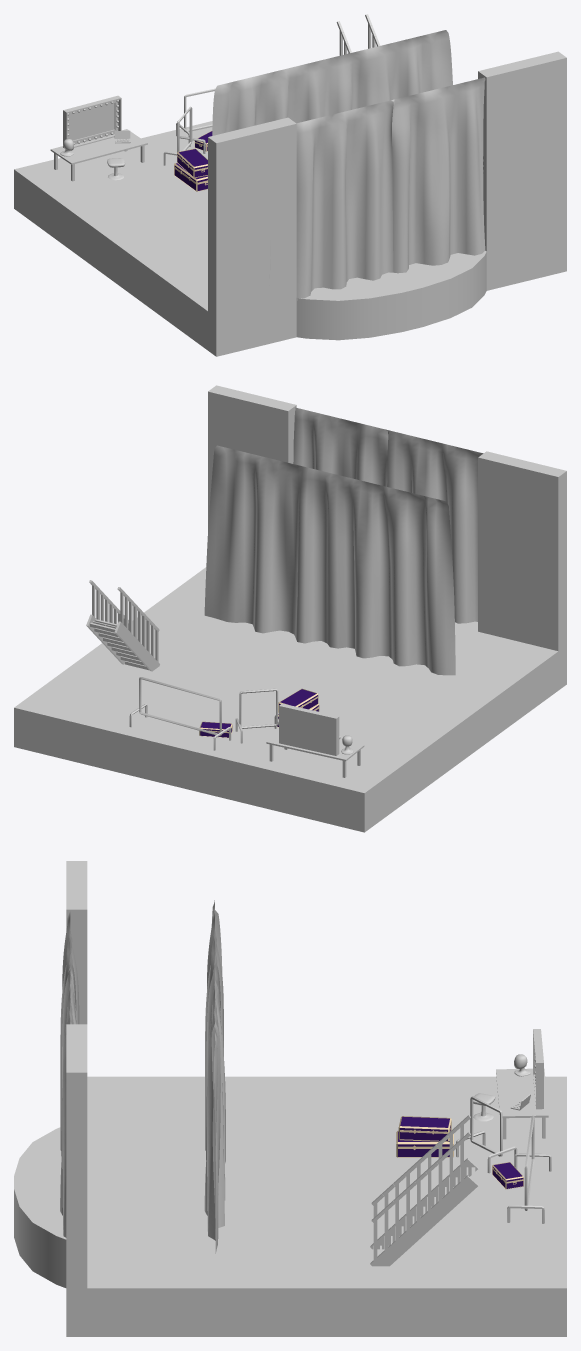
Rendered from ScenaryAlfa2.fbx.
The picture shows the model from 3 angles, top to bottom: view 1: azimuth 30°, elevation 25°; view 2: azimuth 150°, elevation 25°; view 3: azimuth 270°, elevation 25°; orthographic projection. The views are drawn at different scales.
Parts seen in each view (by area): view 1: Teatro base, Telon izquierda, Telon derecha, Telon Atras, Luces, mesa, Caja backstage 1.002, escalera, Caja backstage 1; view 2: Teatro base, Telon Atras, Telon izquierda, Telon derecha, escalera, Luces, mesa, Burro; view 3: Teatro base, escalera, Telon Atras, mesa, Telon izquierda, Telon derecha, Caja backstage 1.002, Caja backstage 1, Luces, Caja backstage 1.001, Burro.
Boxes of the visible parts, x1,y1,x2,y2 form: Teatro base: (14, 51, 566, 356); Telon izquierda: (269, 100, 393, 300); Telon derecha: (392, 77, 485, 273); Telon Atras: (212, 30, 452, 135); Luces: (63, 95, 121, 147); mesa: (50, 129, 147, 181); Caja backstage 1.002: (177, 148, 207, 178); escalera: (336, 14, 380, 55); Caja backstage 1: (174, 163, 207, 191); Teatro base: (14, 385, 566, 832); Telon Atras: (204, 445, 455, 675); Telon izquierda: (387, 430, 483, 623); Telon derecha: (293, 407, 388, 486); escalera: (86, 580, 159, 671); Luces: (279, 703, 339, 755); mesa: (266, 732, 364, 777); Burro: (139, 677, 221, 736); Teatro base: (14, 861, 566, 1336); escalera: (370, 1115, 478, 1266); Telon Atras: (204, 900, 225, 1253); mesa: (496, 1068, 548, 1139); Telon izquierda: (60, 911, 79, 1150); Telon derecha: (60, 970, 76, 1237); Caja backstage 1.002: (398, 1116, 451, 1141); Caja backstage 1: (396, 1130, 453, 1157); Luces: (533, 1029, 543, 1109); Caja backstage 1.001: (492, 1162, 523, 1189); Burro: (524, 1115, 534, 1210).
Bounding box in the file's own units: 1000 × 582 × 1104.
